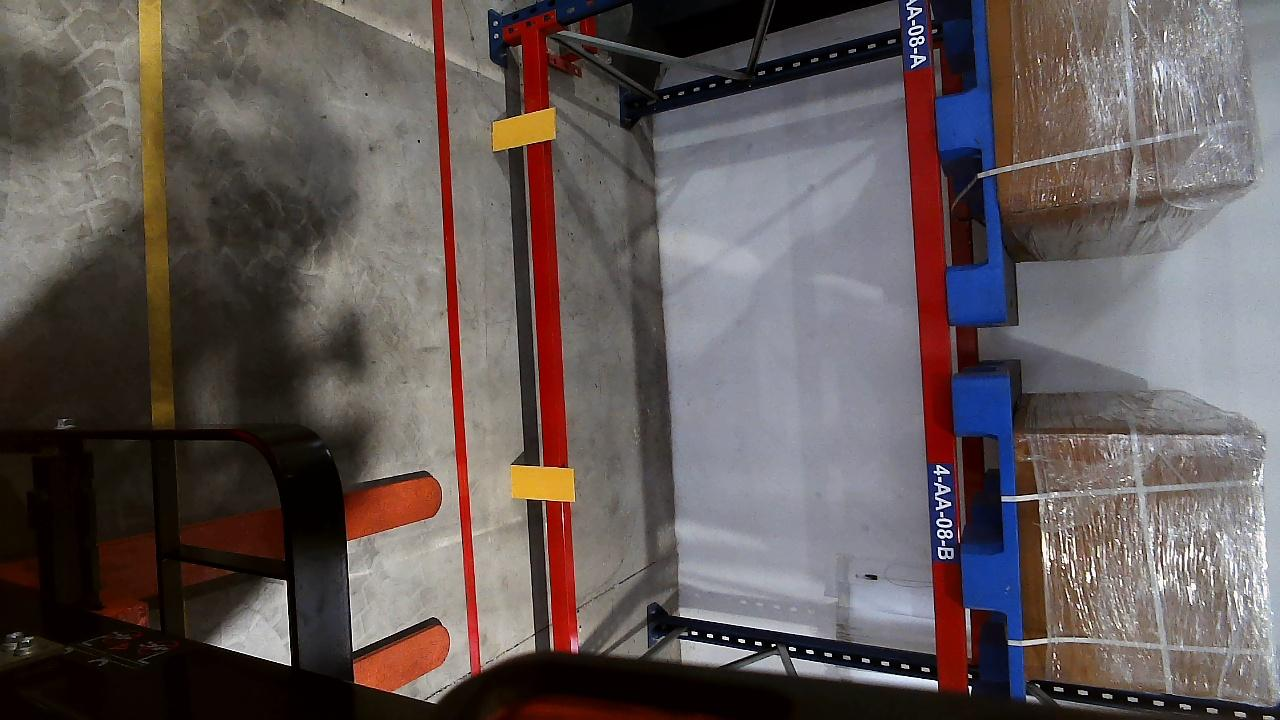h_rack: (892, 3, 959, 692), (522, 34, 565, 655)
orange_strip: (491, 109, 557, 151), (509, 465, 575, 502)
red_line: (431, 2, 489, 666)
small_pallet: (933, 0, 1012, 313), (954, 382, 1029, 697)
yellow_line: (136, 1, 177, 428)
